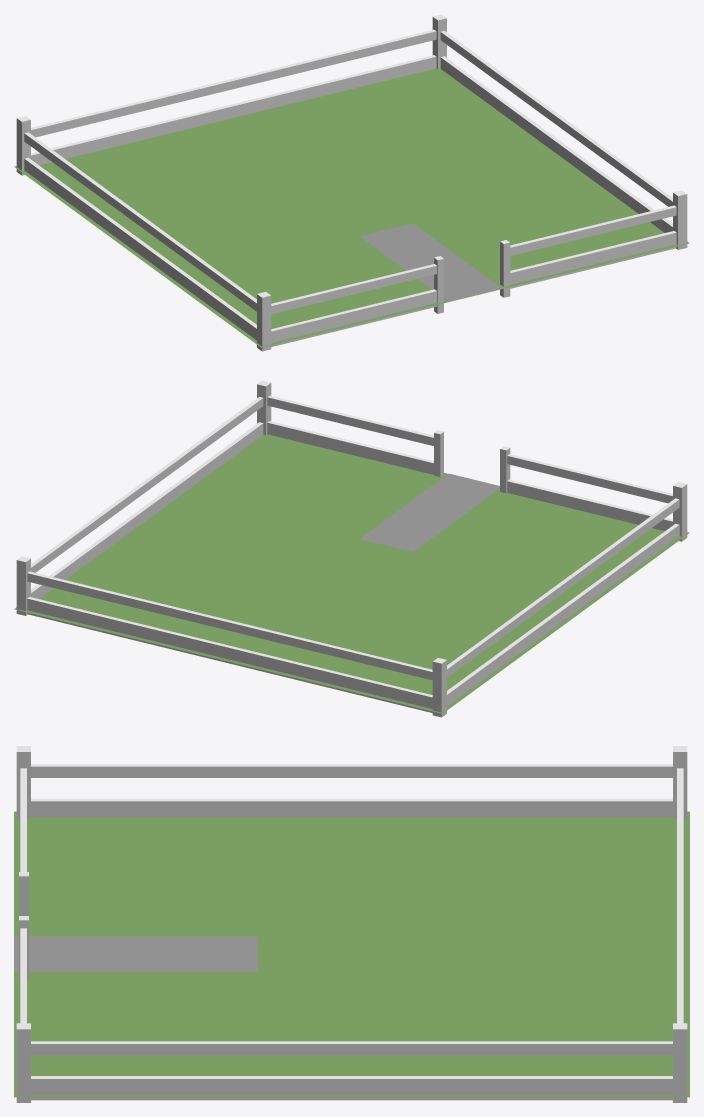
Rendered from tile_for_home_1x1_002.fbx.
3 renders of one model, top to bottom at view 1: azimuth 30°, elevation 25°; view 2: azimuth 150°, elevation 25°; view 3: azimuth 270°, elevation 25°, orthographic. The views are drawn at different scales.
Parts seen in each view (by area): view 1: tile_for_home_1x1_002; view 2: tile_for_home_1x1_002; view 3: tile_for_home_1x1_002.
Boxes of the visible parts, left/top/right/bottom form: tile_for_home_1x1_002: left=14, top=14, right=689, bottom=351; tile_for_home_1x1_002: left=14, top=380, right=689, bottom=717; tile_for_home_1x1_002: left=14, top=746, right=689, bottom=1102.
Size of the model in its own units: 800 by 107 by 800.
